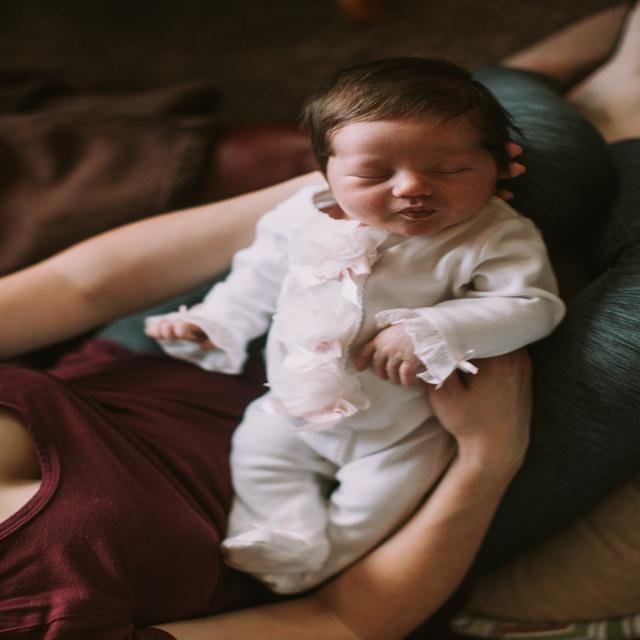non-dog: (0, 170, 534, 633), (145, 61, 567, 594)
